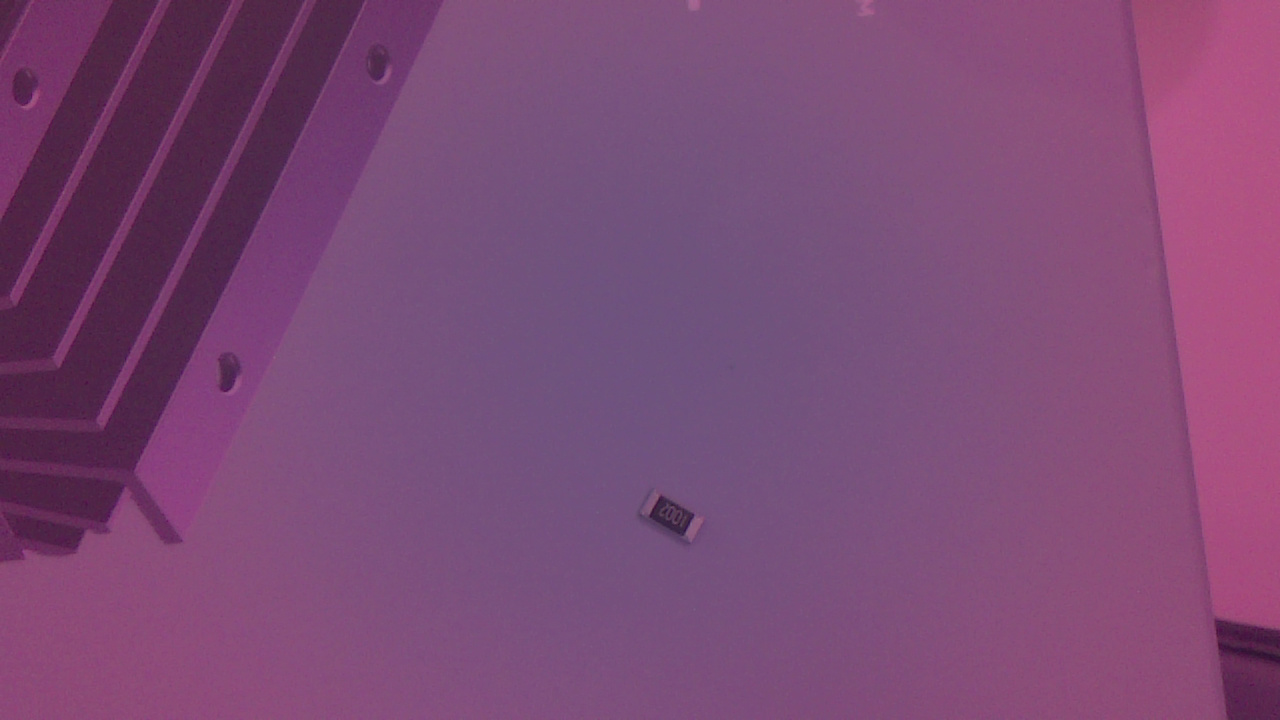Resistor: (639, 485, 712, 559)
